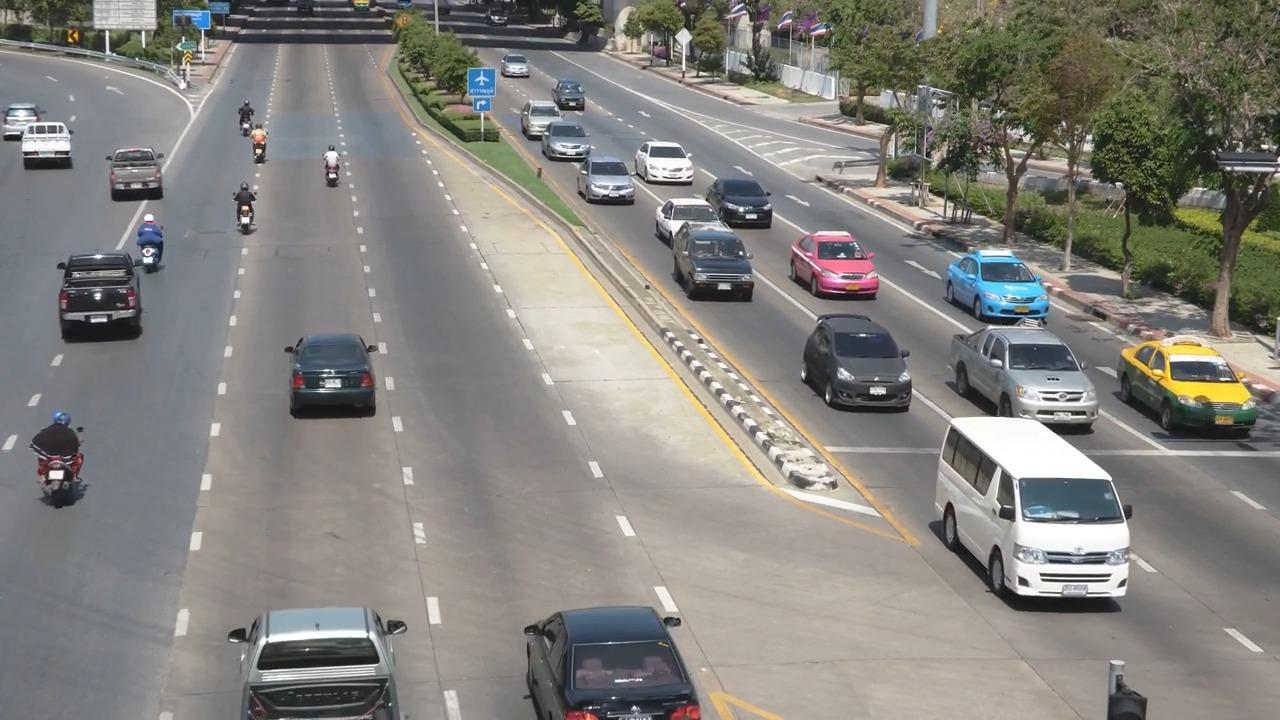CAR: (928, 412, 1157, 619), (213, 580, 427, 720), (507, 589, 716, 720), (952, 321, 1109, 429), (1112, 325, 1259, 440), (274, 322, 380, 435), (797, 306, 914, 406), (48, 247, 145, 356), (941, 248, 1067, 328), (794, 221, 890, 314), (103, 142, 196, 230), (674, 224, 762, 306), (11, 112, 86, 184), (705, 174, 781, 233), (652, 187, 726, 246), (575, 147, 643, 211), (630, 135, 704, 193), (509, 93, 572, 147), (545, 77, 598, 120), (541, 123, 591, 168), (497, 55, 532, 82)
MOTOR: (26, 407, 95, 512), (219, 178, 268, 247), (123, 211, 171, 273), (316, 142, 352, 203), (243, 120, 280, 170), (227, 94, 261, 140)
